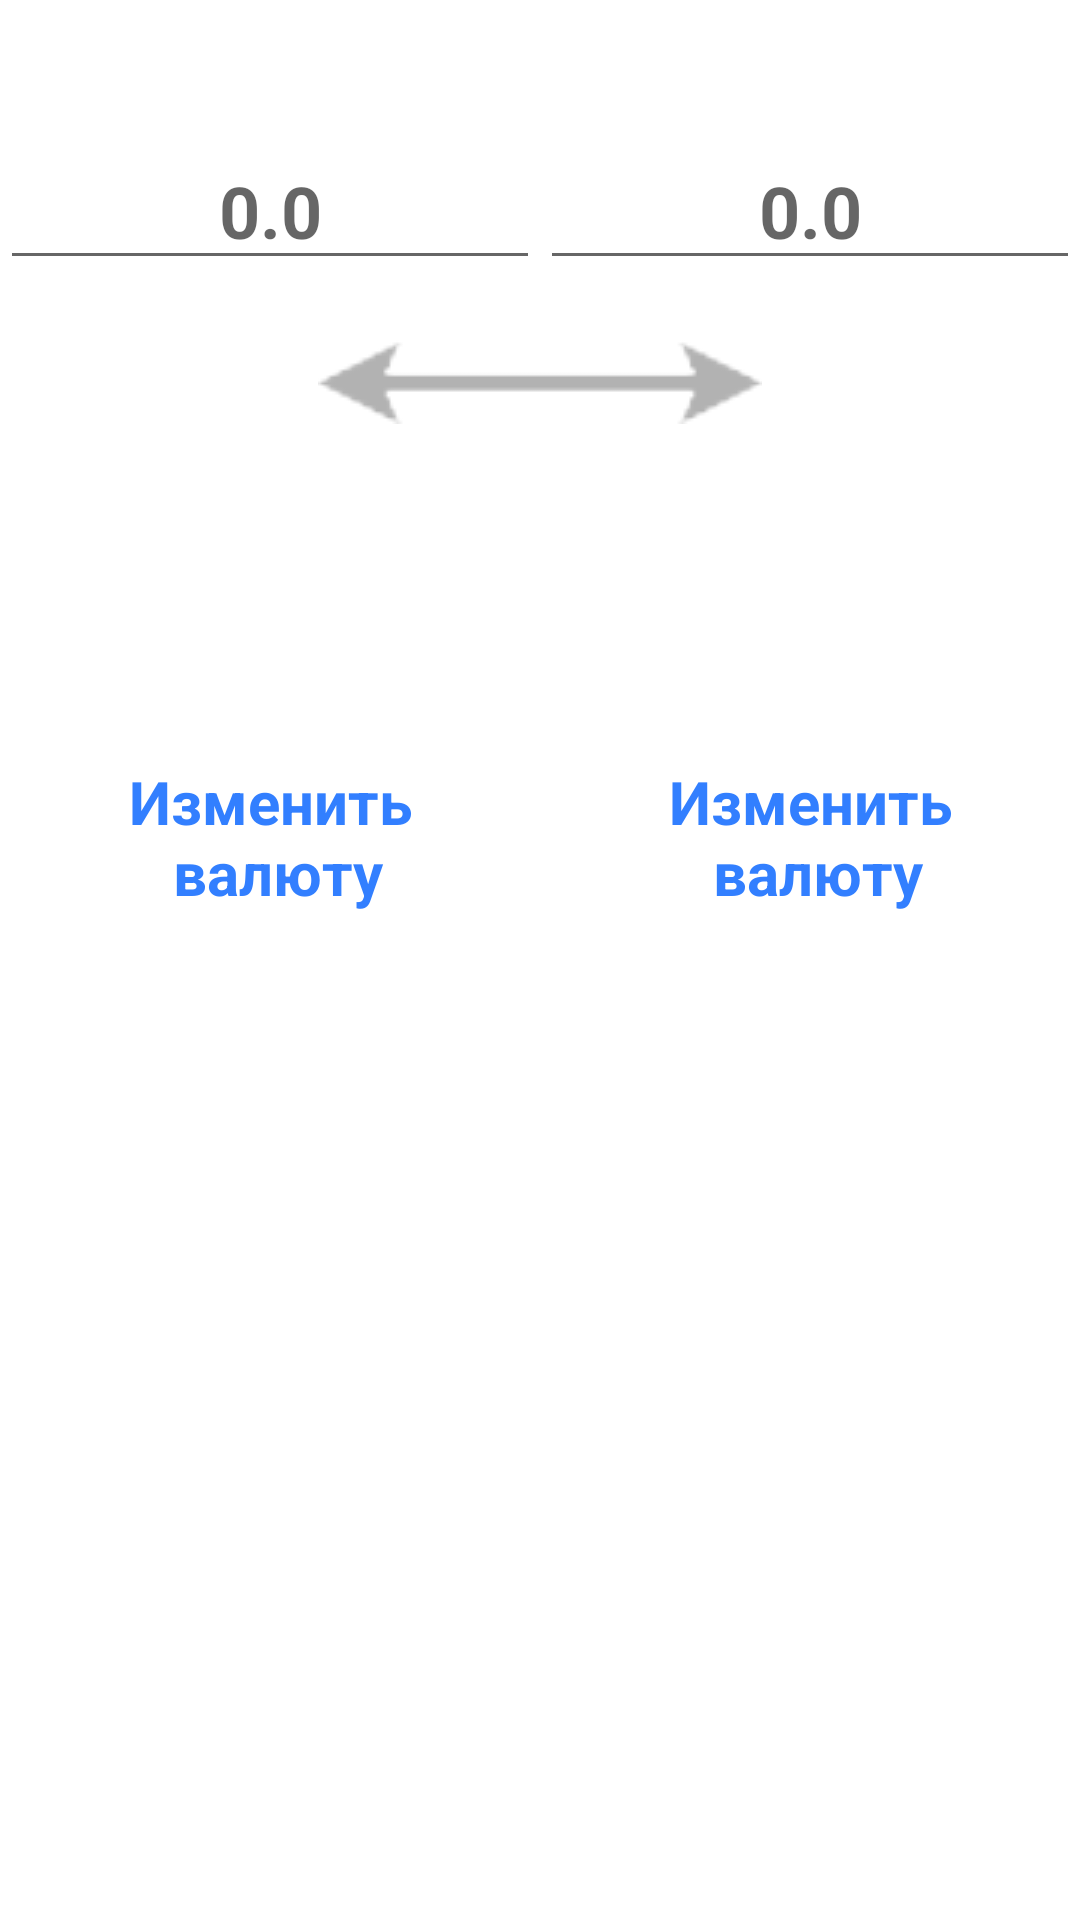

Point at icon controls on the screen. Image size 1080*1920, points as (x,y).
arrow left: (430,383)
arrow right: (650,383)
